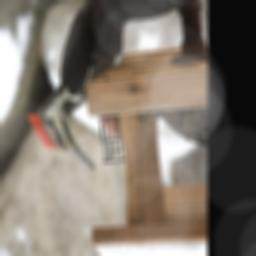Woodpecker: (18, 0, 188, 170)
